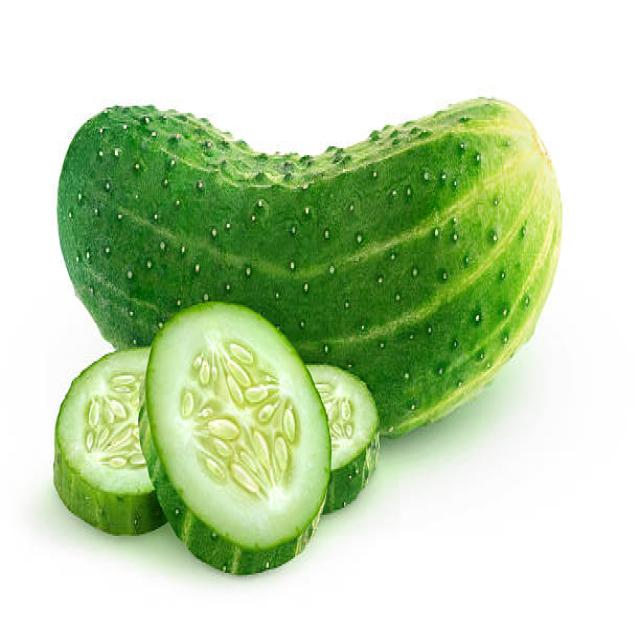cucumber: (56, 97, 564, 435)
